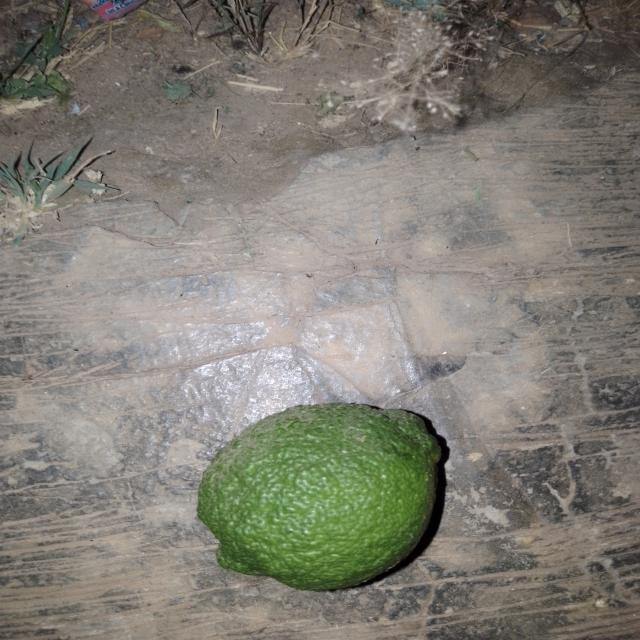Unripe: (156, 388, 488, 597)
